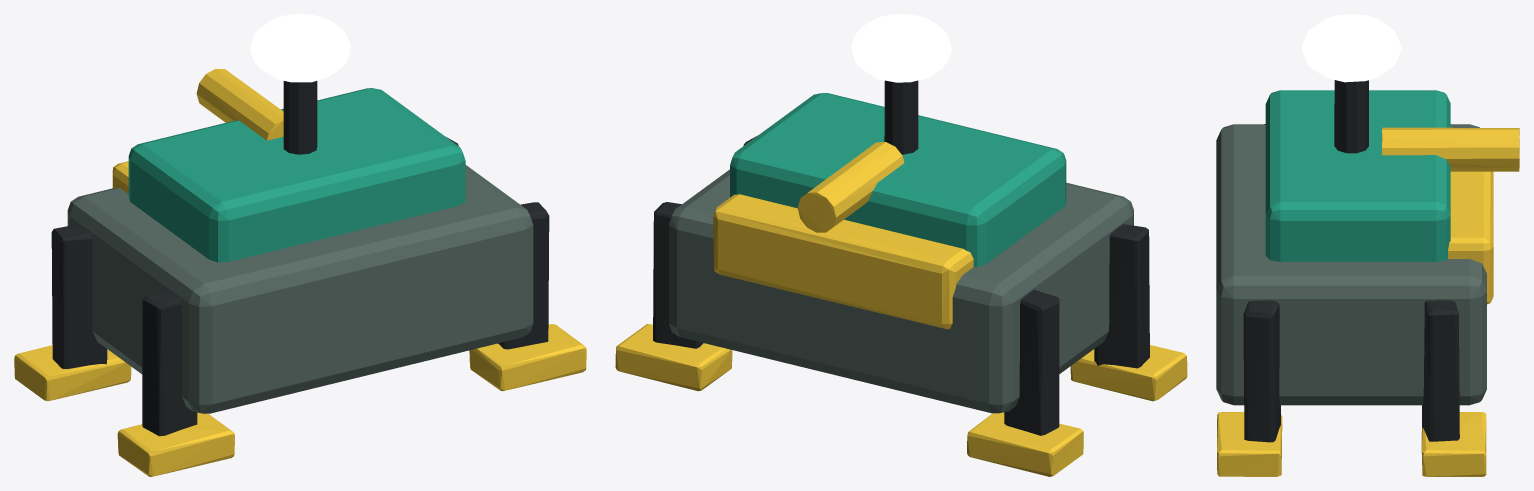
The model's file is SM_Coalition_CO_KamakiriWalker_LOD1.fbx.
3 renders of one model, left to right at view 1: azimuth 30°, elevation 25°; view 2: azimuth 150°, elevation 25°; view 3: azimuth 270°, elevation 25°, orthographic.
Visible parts, largest first — view 1: LOD01_SM_Coalition_CO_KamakiriWalker; view 2: LOD01_SM_Coalition_CO_KamakiriWalker; view 3: LOD01_SM_Coalition_CO_KamakiriWalker.
Part boxes in pixels (x1=…): LOD01_SM_Coalition_CO_KamakiriWalker: x1=14, y1=14, x2=586, y2=476; LOD01_SM_Coalition_CO_KamakiriWalker: x1=615, y1=14, x2=1187, y2=476; LOD01_SM_Coalition_CO_KamakiriWalker: x1=1216, y1=14, x2=1519, y2=476.
Size of the model in its own units: 349 by 211 by 270.
